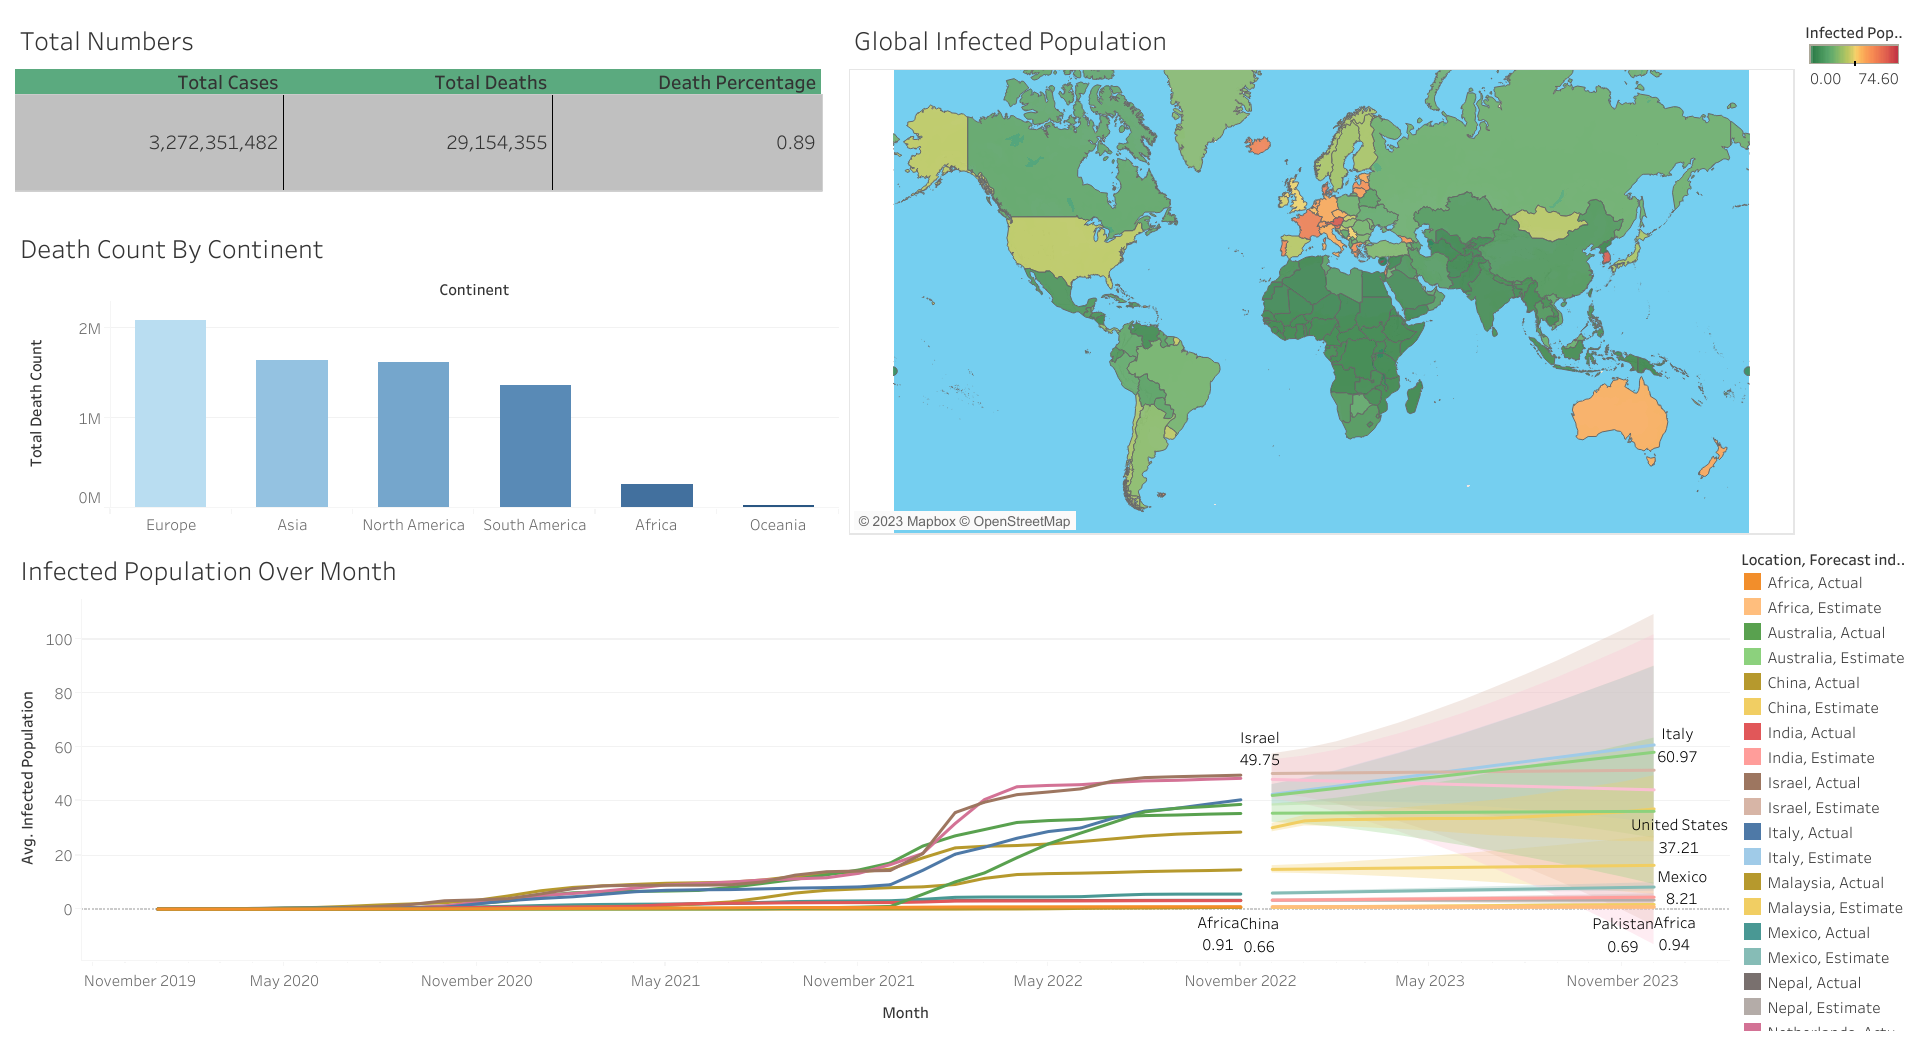

This screenshot's page, from the dashboard's own definition file:
{"tool":"tableau","page":{"name":"Dashboard 1","canvas":[1000,1000],"units":"permille","ordinal":0},"visuals":[{"type":"worksheet","title":"Sheet 1","mark":"Automatic","box":[4.8,9.4,434.5,198.6]},{"type":"worksheet","title":"Sheet 3","mark":"Automatic","box":[439.4,9.4,498.5,506.5]},{"type":"legend","title":"Sheet 3","param":"[federated.0un1cwv002e1ws10wi1ja0037f3a].[sum:InfectedPopulation:qk]","box":[937.8,9.4,57.3,506.5]},{"type":"worksheet","title":"Sheet 2","mark":"Automatic","rows":["TotalDeathCount"],"cols":["continent"],"box":[4.8,208,434.5,307.9]},{"type":"worksheet","title":"Sheet 4","mark":"Automatic","rows":["InfectedPopulation"],"cols":["date"],"box":[4.8,515.9,899.2,474.7]},{"type":"legend","title":"Sheet 4","param":"[federated.1rdugyk0g5i4f113vf0l91ozjz7s].[none:location:nk]\n[federated.1rdugyk0g","box":[904,515.9,91.1,474.7]}]}

Visuals, with their boxes on the dashboard's canvas, which has no fixed pixel size, in thousandths of its width and height (x1, y1, x2, y2). These are canvas units, not pixel positions in the 1919x1045 screenshot, which may show the page scaled, cropped or inside an application window:
"Sheet 1" worksheet: (left=5, top=9, right=439, bottom=208)
"Sheet 3" worksheet: (left=439, top=9, right=938, bottom=516)
"Sheet 3" legend: (left=938, top=9, right=995, bottom=516)
"Sheet 2" worksheet: (left=5, top=208, right=439, bottom=516)
"Sheet 4" worksheet: (left=5, top=516, right=904, bottom=991)
"Sheet 4" legend: (left=904, top=516, right=995, bottom=991)
